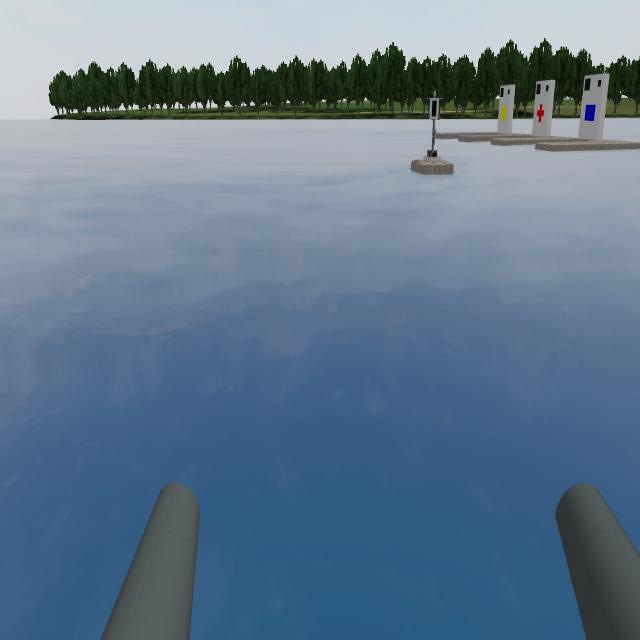black_pole: (426, 90, 444, 128)
